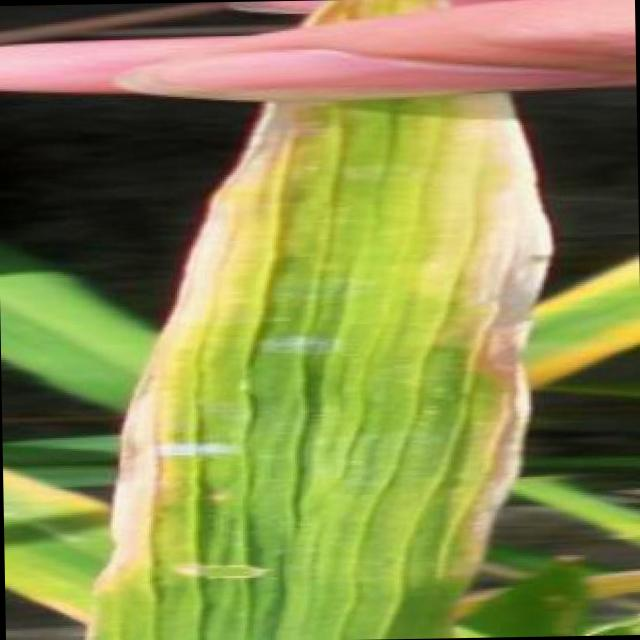Rice_Bacterial_Blight: (150, 94, 554, 640)
